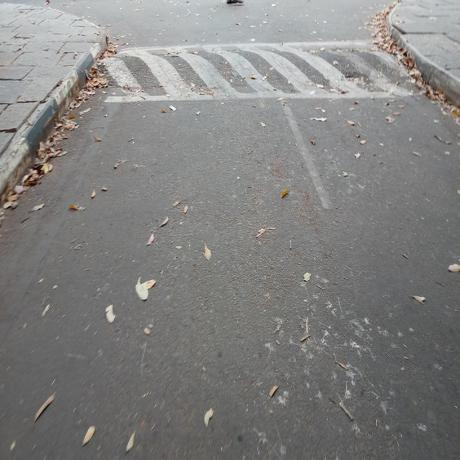Speed Bump: (88, 38, 416, 99)
